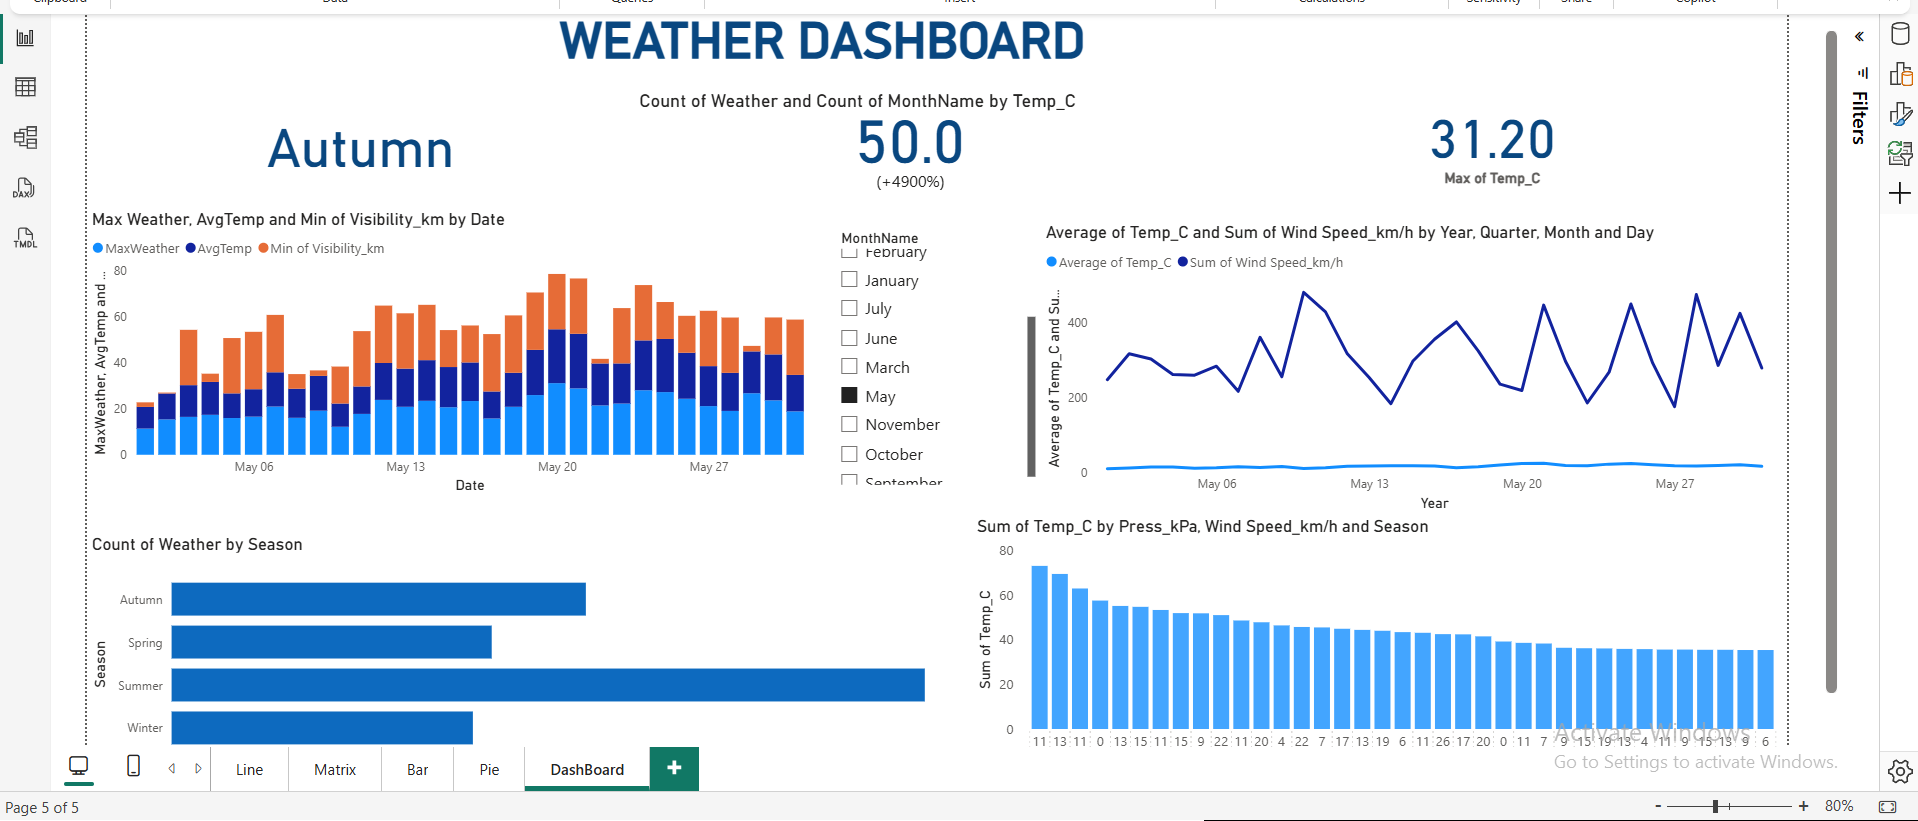

The page's visual inventory and layout, read from the dashboard file:
{"tool":"powerbi","page":{"name":"DashBoard","canvas":[1700,800],"ordinal":4},"visuals":[{"type":"barChart","fields":{"Category":["FrequencyBySeason.Season","DateTable.Date.Variation.Date Hierarchy.Year","DateTable.Date.Variation.Date Hierarchy.Quarter","DateTable.Date.Variation.Date Hierarchy.Month","DateTable.Date.Variation.Date Hierarchy.Day"],"Y":["CountNonNull(FrequencyBySeason.Weather)"]},"box":[0,527.5,850,272.5],"z":0},{"type":"lineChart","fields":{"Y":["Avg(Weather-P.Temp_C)","Sum(Weather-P.Wind Speed_km/h)"],"Category":["DateTable.Date.Variation.Date Hierarchy.Year","DateTable.Date.Variation.Date Hierarchy.Quarter","DateTable.Date.Variation.Date Hierarchy.Month","DateTable.Date.Variation.Date Hierarchy.Day"]},"box":[953.8,216.2,746.2,293.8],"z":1000},{"type":"slicer","fields":{"Values":["Weather-P.MonthName"]},"box":[741.2,218.8,212.5,265],"z":2000},{"type":"kpi","fields":{"Indicator":["Count(FrequencyBySeason.Weather)"],"TrendLine":["Weather-P.Temp_C"],"Goal":["CountNonNull(Weather-P.MonthName)"]},"box":[547.5,83.8,548.8,102.5],"z":3000},{"type":"card","fields":{"Values":["Min(Weather-P.Season)"]},"box":[0,83.8,547.5,102.5],"z":4000},{"type":"textbox","box":[0,0,1470,83.8],"z":5000},{"type":"columnChart","fields":{"Series":["Weather-P.Season"],"Y":["Sum(Weather-P.Temp_C)"],"Category":["Weather-P.Press_kPa","Weather-P.Wind Speed_km/h"]},"box":[885,510,815,290],"z":6000},{"type":"card","fields":{"Values":["Max(Weather-P.Temp_C)"]},"box":[1111.2,83.8,588.8,102.5],"z":7000},{"type":"columnChart","title":"Max Weather, AvgTemp and Min of Visibility_km by Date","fields":{"Y":["Weather-P.MaxWeather","Weather-P.AvgTemp","Min(Weather-P.Visibility_km)"],"Category":["Weather-P.Date"]},"box":[0,202.5,735,290],"z":8000}]}

Visuals, with their boxes on the page's 1700x800 design canvas (x1, y1, x2, y2). These are canvas units, not pixel positions in the 1918x821 screenshot, which may show the page scaled, cropped or inside an application window:
barChart - FrequencyBySeason.Season x DateTable.Date.Variation.Date Hierarchy.Year: pyautogui.locateOnScreen(0, 528, 850, 800)
lineChart - Avg(Weather-P.Temp_C) x Sum(Weather-P.Wind Speed_km/h): pyautogui.locateOnScreen(954, 216, 1700, 510)
slicer - Weather-P.MonthName: pyautogui.locateOnScreen(741, 219, 954, 484)
kpi - Count(FrequencyBySeason.Weather) x Weather-P.Temp_C: pyautogui.locateOnScreen(548, 84, 1096, 186)
card - Min(Weather-P.Season): pyautogui.locateOnScreen(0, 84, 548, 186)
textbox: pyautogui.locateOnScreen(0, 0, 1470, 84)
columnChart - Weather-P.Season x Sum(Weather-P.Temp_C): pyautogui.locateOnScreen(885, 510, 1700, 800)
card - Max(Weather-P.Temp_C): pyautogui.locateOnScreen(1111, 84, 1700, 186)
"Max Weather, AvgTemp and Min of Visibility_km by Date" columnChart: pyautogui.locateOnScreen(0, 202, 735, 492)
